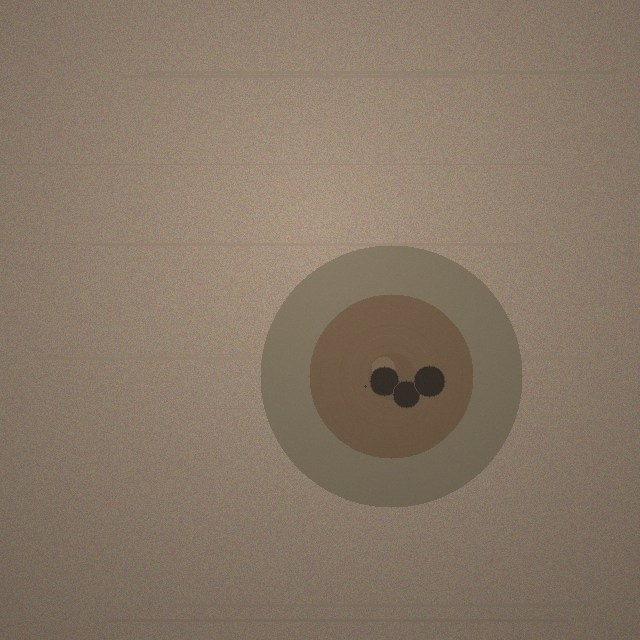shrinkage: (260, 245, 522, 507)
